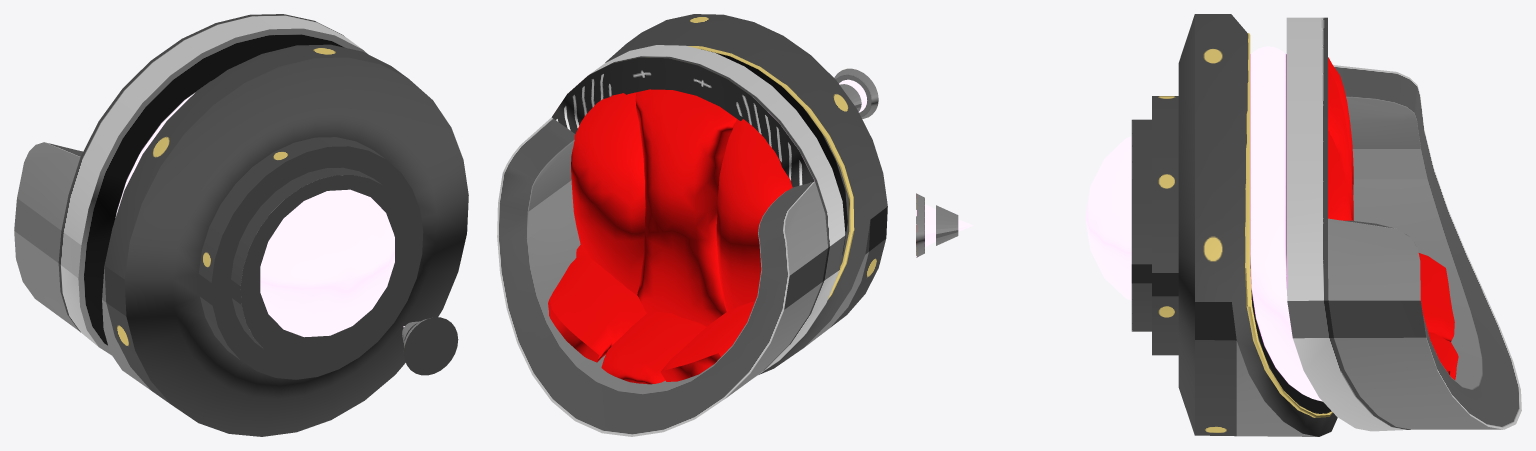
The model's file is BP_chairfloat_ low.fbx.
The picture shows the model from 3 angles, left to right: view 1: azimuth 30°, elevation 25°; view 2: azimuth 150°, elevation 25°; view 3: azimuth 270°, elevation 25°; orthographic projection. The views are drawn at different scales.
Visible parts, largest first — view 1: Chair; view 2: Chair; view 3: Chair.
Part boxes in pixels (<box>): Chair: <box>14,14,468,436</box>; Chair: <box>497,14,887,436</box>; Chair: <box>916,14,1521,436</box>.
Bounding box in the file's own units: 47.93 × 49.36 × 70.4.
